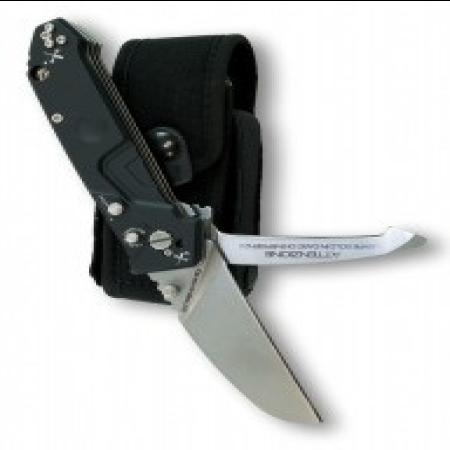long weapon: (142, 250, 330, 434)
